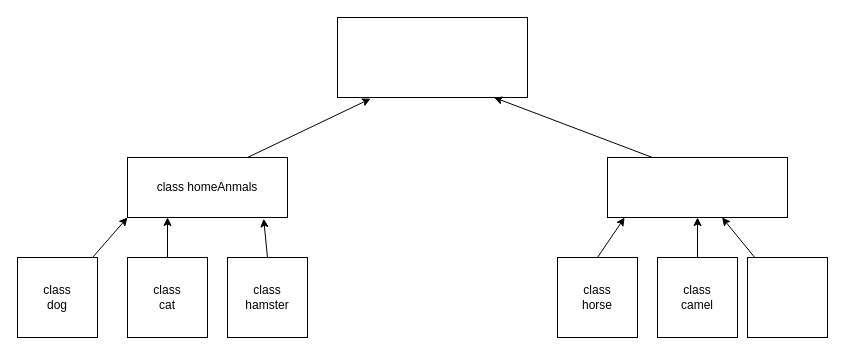
Image size: 845x355. Some labels were removed from this diagram. Here are the shapes that lost their labels. From the top down, the box of each, then its label:
(336, 16, 528, 98): class Animals
(606, 156, 788, 218): class packedAnimals
